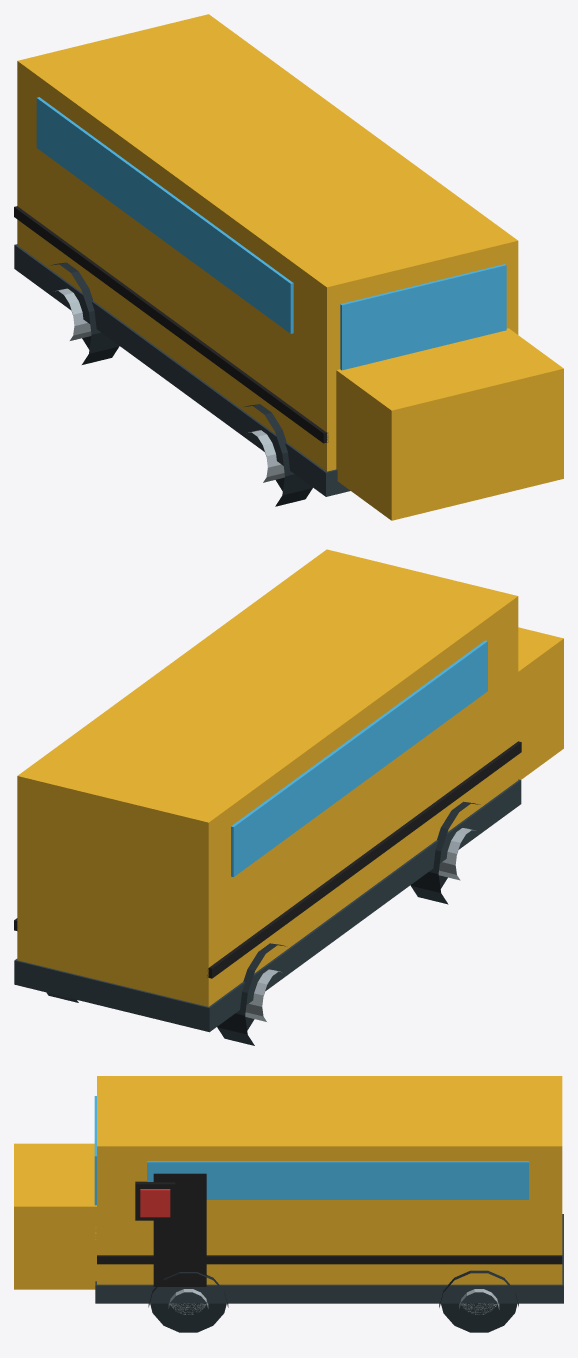
File: skolbuss.glb
The picture shows the model from 3 angles, top to bottom: view 1: azimuth 30°, elevation 25°; view 2: azimuth 150°, elevation 25°; view 3: azimuth 270°, elevation 25°; orthographic projection. The views are drawn at different scales.
Visible parts, largest first — view 1: skolbuss; view 2: skolbuss; view 3: skolbuss.
Boxes of the visible parts, x1,y1,x2,y2 form: skolbuss: [14, 14, 563, 520]; skolbuss: [14, 549, 563, 1045]; skolbuss: [14, 1076, 563, 1332].
Size of the model in its own units: 1.13 by 1.29 by 3.31.
